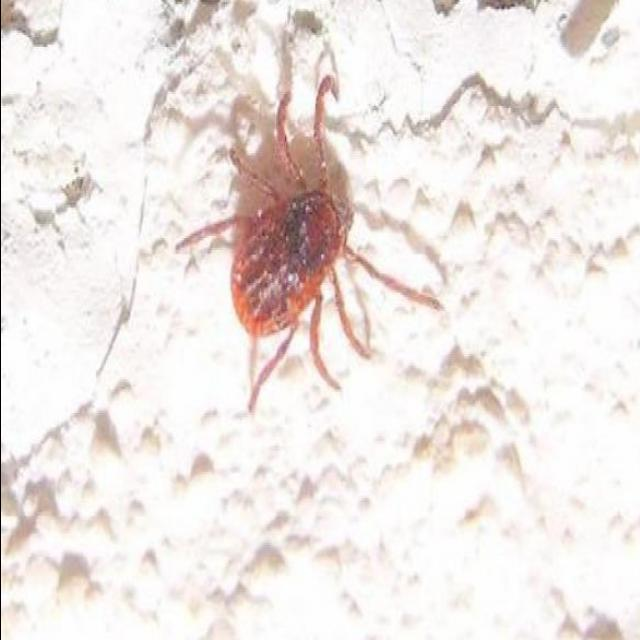Rhipicephalus Sanguineus-F: (173, 73, 443, 415)
